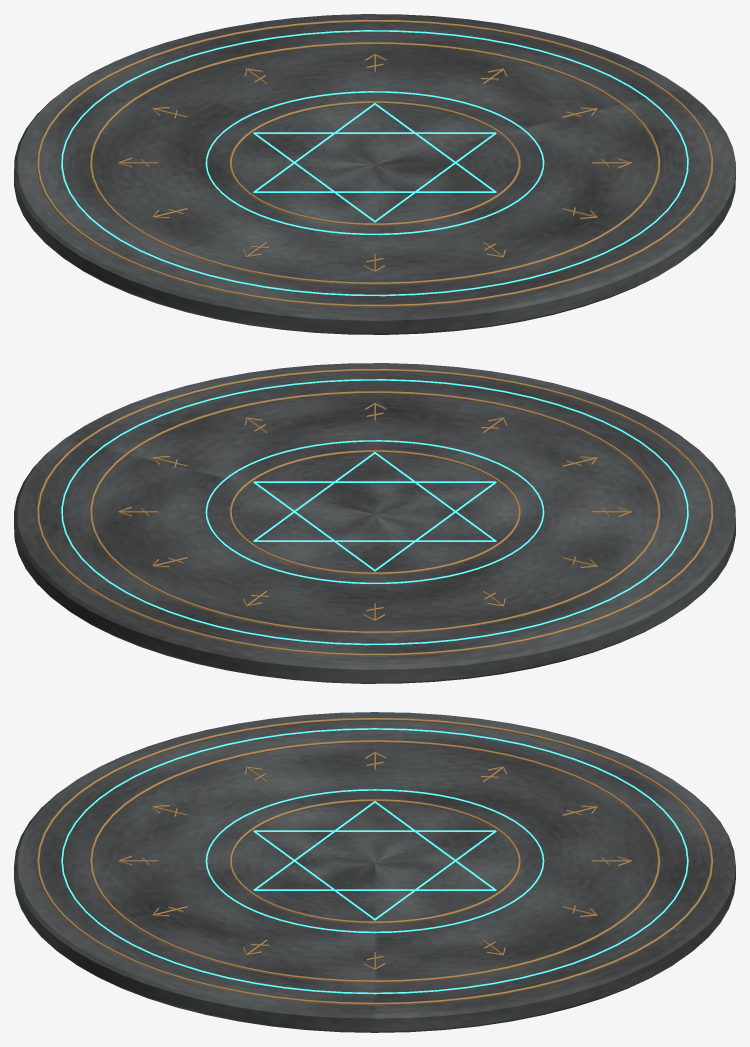
Rendered from magic-circle.glb.
3 renders of one model, top to bottom at view 1: azimuth 30°, elevation 25°; view 2: azimuth 150°, elevation 25°; view 3: azimuth 270°, elevation 25°, orthographic.
Visible parts, largest first — view 1: magic-circle; view 2: magic-circle; view 3: magic-circle.
Boxes of the visible parts, x1,y1,x2,y2 form: magic-circle: (14, 14, 735, 334); magic-circle: (14, 363, 735, 683); magic-circle: (14, 712, 735, 1032).
Bounding box in the file's own units: 1.5 × 0.05 × 1.5.
Materials: 3 (1 with a texture image).
